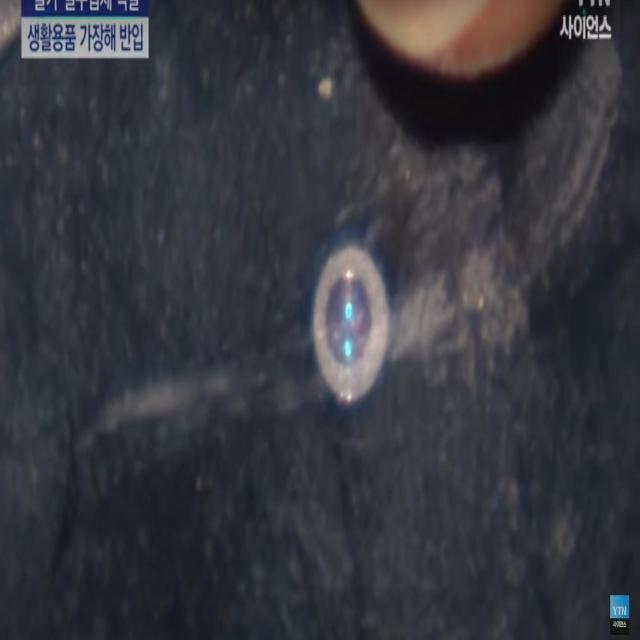hidden camera: (304, 225, 391, 416)
